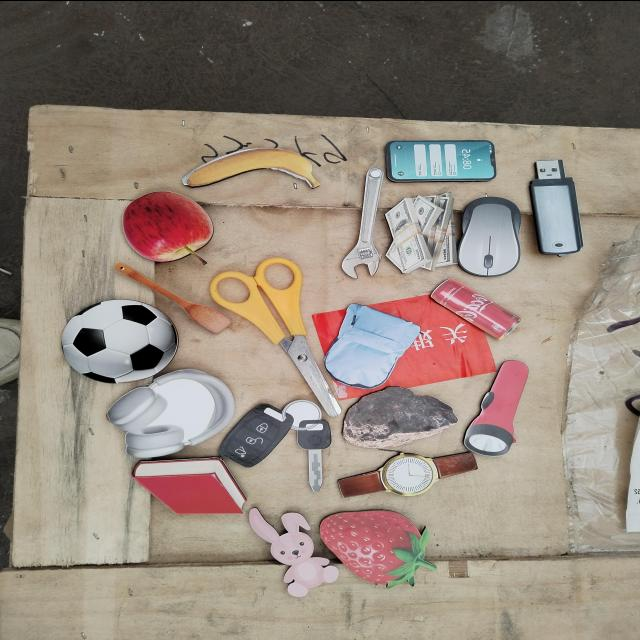Other Objects: (209, 256, 342, 416), (213, 382, 363, 492), (55, 293, 184, 387), (105, 367, 235, 458), (310, 300, 424, 396), (247, 506, 339, 596), (115, 262, 230, 334), (459, 355, 531, 458), (341, 385, 458, 448), (336, 449, 478, 498), (122, 190, 214, 264), (384, 191, 458, 272), (181, 146, 320, 188), (526, 157, 584, 256), (429, 277, 521, 339), (458, 196, 519, 275), (384, 139, 496, 181), (342, 167, 381, 276)
